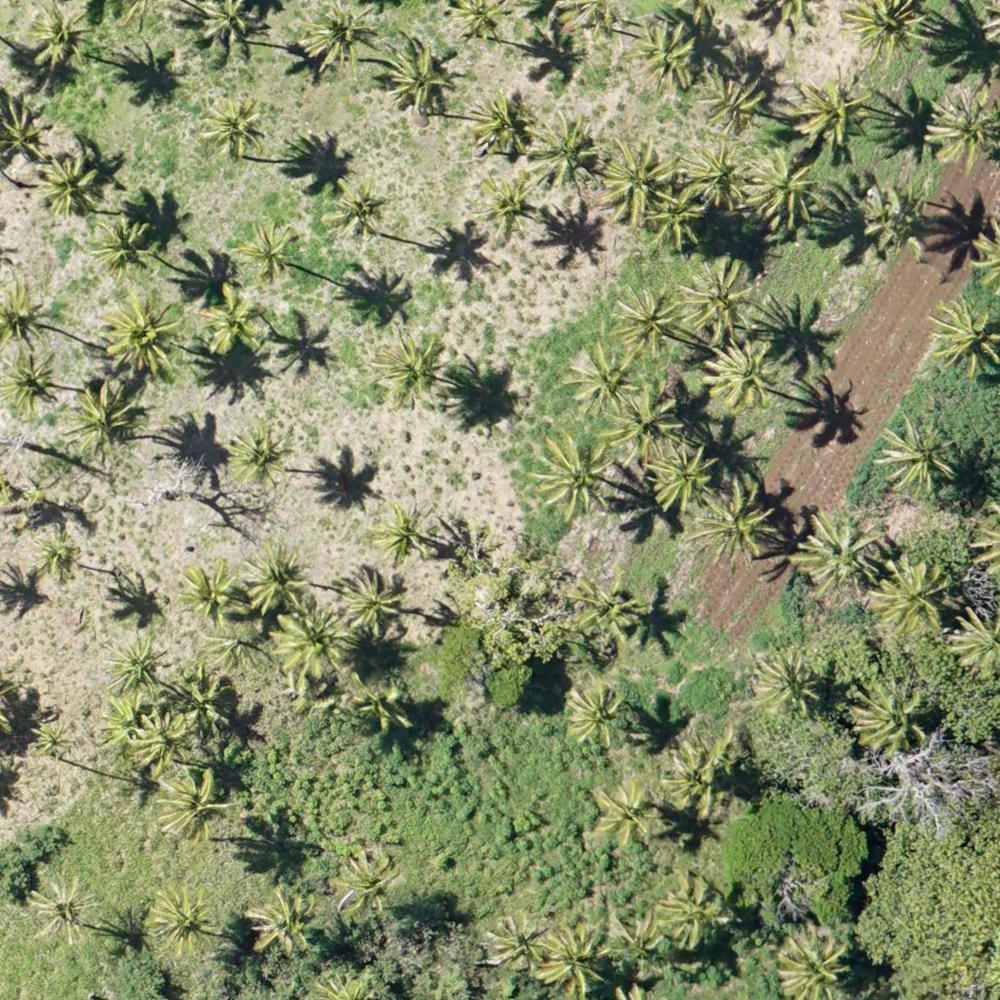Palm: (381, 32, 463, 121), (97, 295, 181, 379), (793, 509, 879, 591), (695, 481, 780, 559), (275, 605, 361, 681), (536, 434, 614, 515), (872, 555, 947, 639), (742, 144, 815, 227), (881, 414, 956, 494), (925, 86, 998, 168), (604, 134, 676, 217), (609, 386, 685, 464), (568, 345, 643, 423), (67, 381, 143, 457), (681, 259, 756, 335), (534, 111, 605, 190), (793, 73, 867, 148), (928, 299, 1000, 374), (864, 177, 930, 258), (376, 332, 448, 405), (856, 679, 926, 754), (847, 1, 928, 65), (149, 884, 219, 958), (632, 22, 703, 94), (753, 649, 826, 719), (681, 140, 751, 213), (542, 925, 613, 996), (612, 283, 681, 355), (640, 441, 709, 512), (24, 876, 93, 944), (570, 574, 639, 642), (307, 1, 378, 67), (661, 874, 725, 947), (224, 422, 294, 488), (564, 682, 634, 747), (706, 340, 776, 405), (779, 933, 851, 996), (469, 90, 536, 156), (156, 767, 221, 835), (335, 847, 404, 911), (247, 891, 316, 955), (326, 174, 389, 244), (198, 618, 272, 677), (241, 546, 309, 610), (708, 69, 772, 133), (371, 500, 435, 564), (334, 566, 397, 631), (238, 222, 300, 288), (203, 285, 266, 349), (25, 4, 88, 67), (1, 349, 61, 415), (41, 151, 103, 214), (482, 910, 546, 971), (89, 222, 154, 282), (946, 607, 1000, 679), (476, 173, 538, 235), (597, 783, 658, 846), (134, 712, 195, 773), (664, 752, 723, 815), (204, 97, 267, 156), (3, 279, 56, 349), (174, 669, 233, 730), (99, 631, 158, 691), (182, 561, 240, 619), (198, 2, 263, 52), (650, 188, 701, 249), (25, 529, 84, 581), (97, 696, 150, 751), (442, 1, 506, 44), (4, 100, 47, 163), (30, 722, 75, 762)
